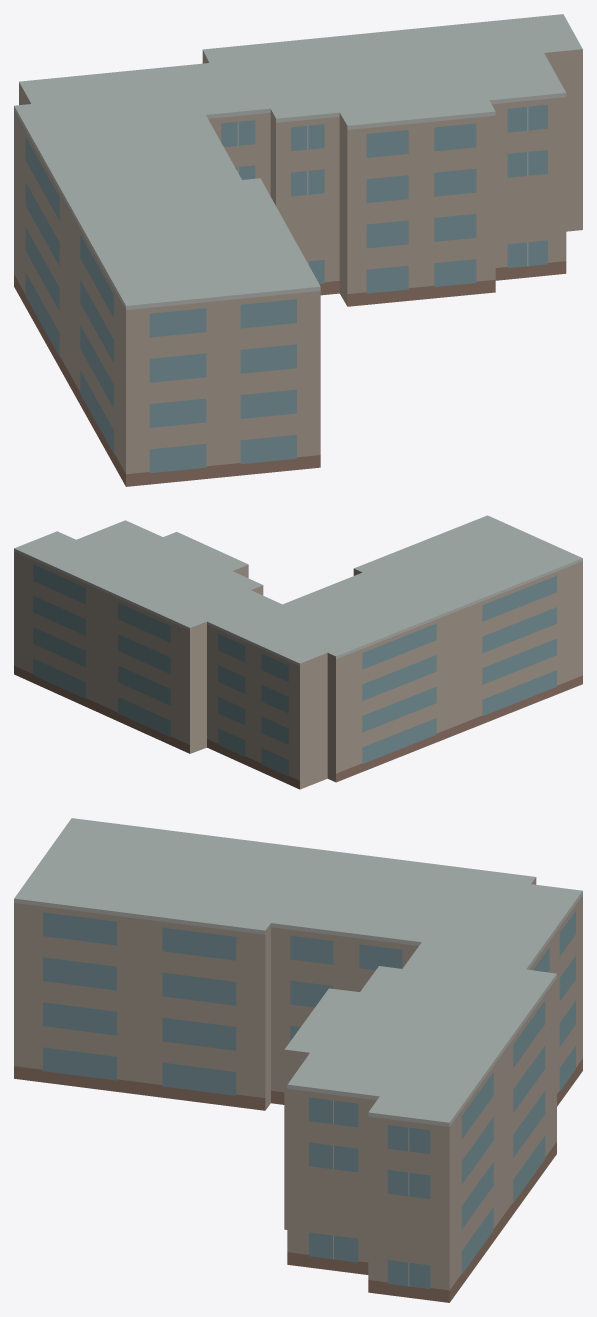
Rendered from survey-upis-32692847.glb.
3 views of the same model, one above another, from view 1: azimuth 30°, elevation 25°; view 2: azimuth 150°, elevation 25°; view 3: azimuth 270°, elevation 25° (orthographic). The views are drawn at different scales.
Parts seen in each view (by area): view 1: survey-upis-32692847.tmp; view 2: survey-upis-32692847.tmp; view 3: survey-upis-32692847.tmp.
Boxes of the visible parts, box(x1,y1,x2,y2) form: survey-upis-32692847.tmp: box(14, 14, 582, 486); survey-upis-32692847.tmp: box(14, 515, 582, 789); survey-upis-32692847.tmp: box(14, 818, 582, 1302).
Size of the model in its own units: 38.47 by 10.6 by 30.34.
